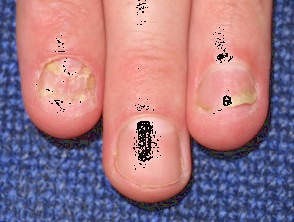Nail_psoriasis: (183, 46, 274, 136), (31, 47, 106, 123)
